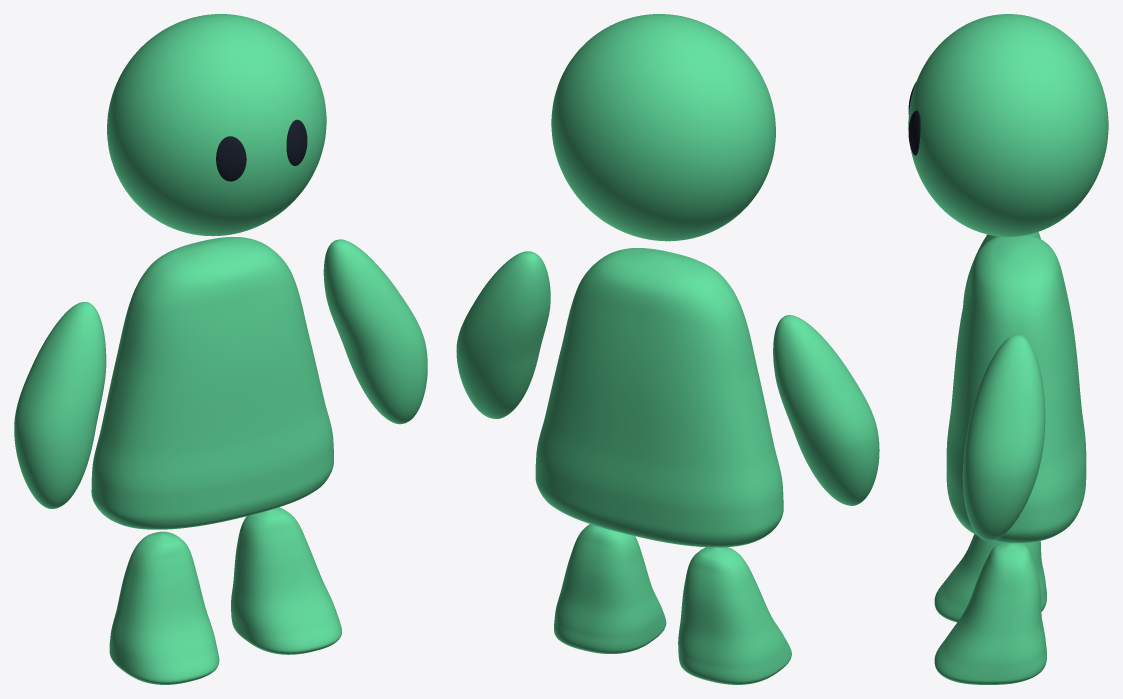
Rendered from Floating138-optional-eyes.glb.
3 views of the same model, side by side, from view 1: azimuth 30°, elevation 25°; view 2: azimuth 150°, elevation 25°; view 3: azimuth 270°, elevation 25° (orthographic). The views are drawn at different scales.
Visible parts, largest first — view 1: Floating torso, Round head, Left floating arm, Left floating foot, Right floating foot, Right floating arm, Left optional eye, Right optional eye; view 2: Floating torso, Round head, Left floating arm, Left floating foot, Right floating arm, Right floating foot; view 3: Round head, Floating torso, Right floating arm, Right floating foot, Left floating foot, Right optional eye.
Boxes of the visible parts, <box> form: Floating torso: <box>91,237,333,529</box>; Round head: <box>107,14,326,236</box>; Left floating arm: <box>14,302,106,508</box>; Left floating foot: <box>109,531,219,684</box>; Right floating foot: <box>231,507,341,654</box>; Right floating arm: <box>323,239,427,424</box>; Left optional eye: <box>216,136,246,181</box>; Right optional eye: <box>286,119,307,165</box>; Floating torso: <box>535,248,783,547</box>; Round head: <box>551,14,775,241</box>; Left floating arm: <box>773,315,879,505</box>; Left floating foot: <box>678,547,791,684</box>; Right floating arm: <box>456,251,550,418</box>; Right floating foot: <box>554,524,666,653</box>; Round head: <box>908,14,1108,236</box>; Floating torso: <box>946,234,1086,542</box>; Right floating arm: <box>962,334,1045,540</box>; Right floating foot: <box>934,542,1046,684</box>; Left floating foot: <box>934,534,1046,622</box>; Right optional eye: <box>908,110,920,155</box>.
Size of the model in its own units: 2.02 by 2.98 by 0.88.
